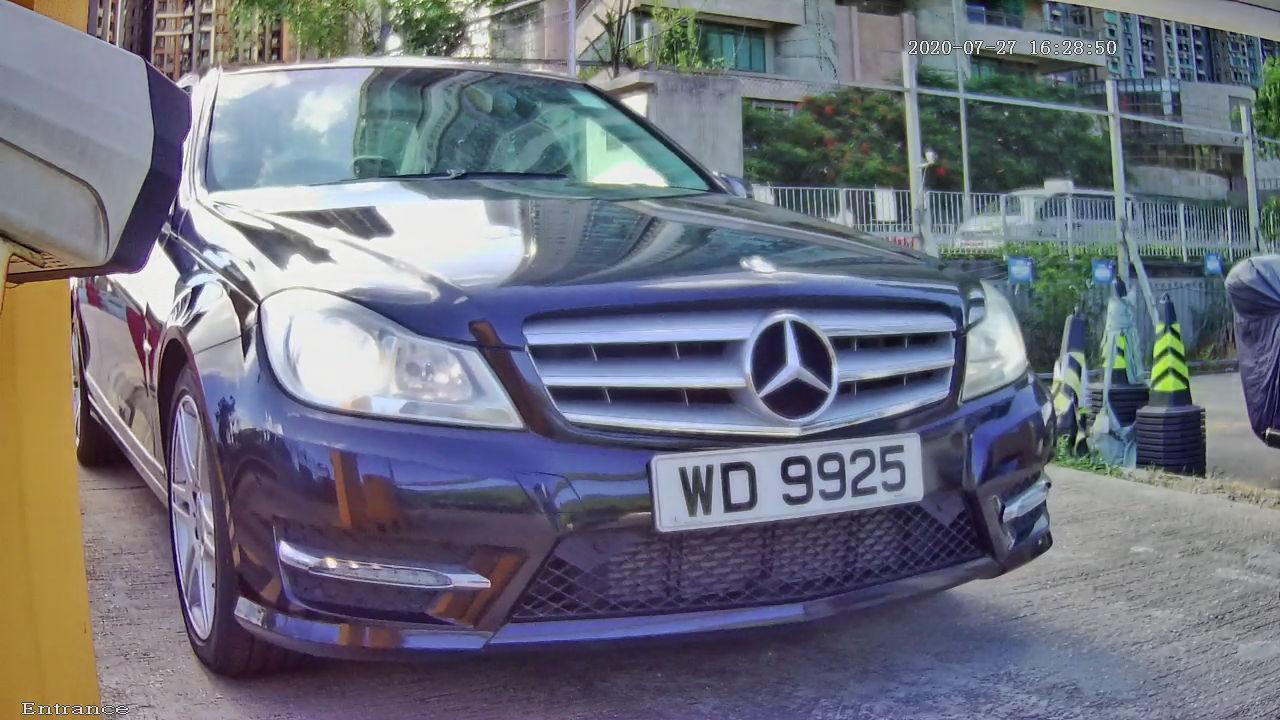privatecar: (46, 33, 1126, 708)
